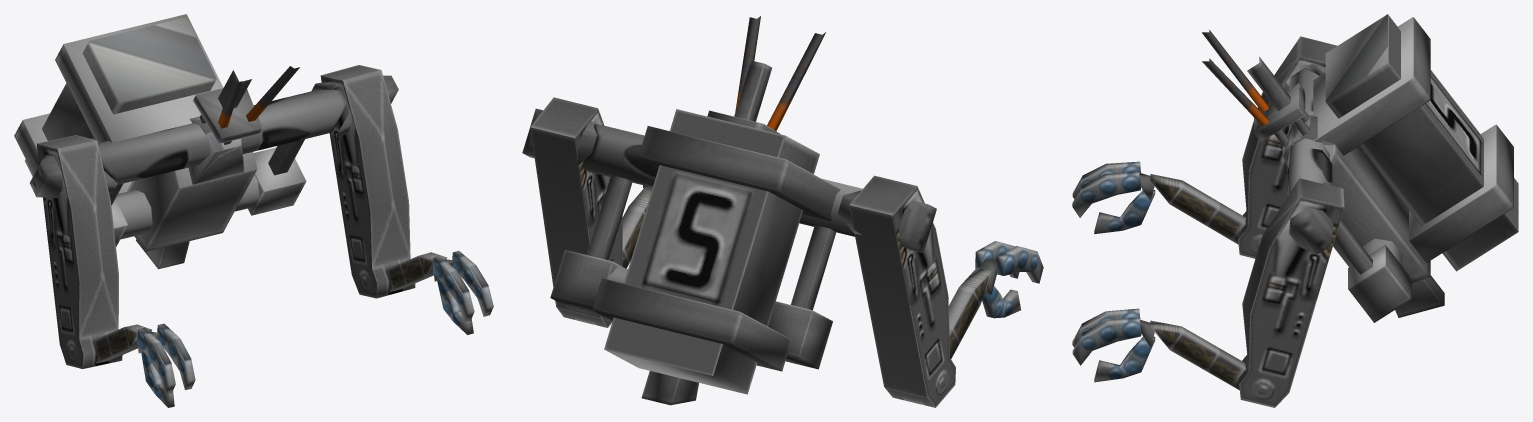
File: body_j5.gltf
3 views of the same model, side by side, from view 1: azimuth 30°, elevation 25°; view 2: azimuth 150°, elevation 25°; view 3: azimuth 270°, elevation 25° (orthographic). The views are drawn at different scales.
Parts seen in each view (by area): view 1: Mesh_0; view 2: Mesh_0; view 3: Mesh_0.
Boxes of the visible parts, box(x1,y1,x2,y2) form: Mesh_0: box(14, 14, 493, 407); Mesh_0: box(522, 16, 1043, 407); Mesh_0: box(1072, 14, 1518, 407).
Bounding box in the file's own units: 0.8922 × 0.6727 × 0.9684.
Materials: 1 (1 with a texture image).
